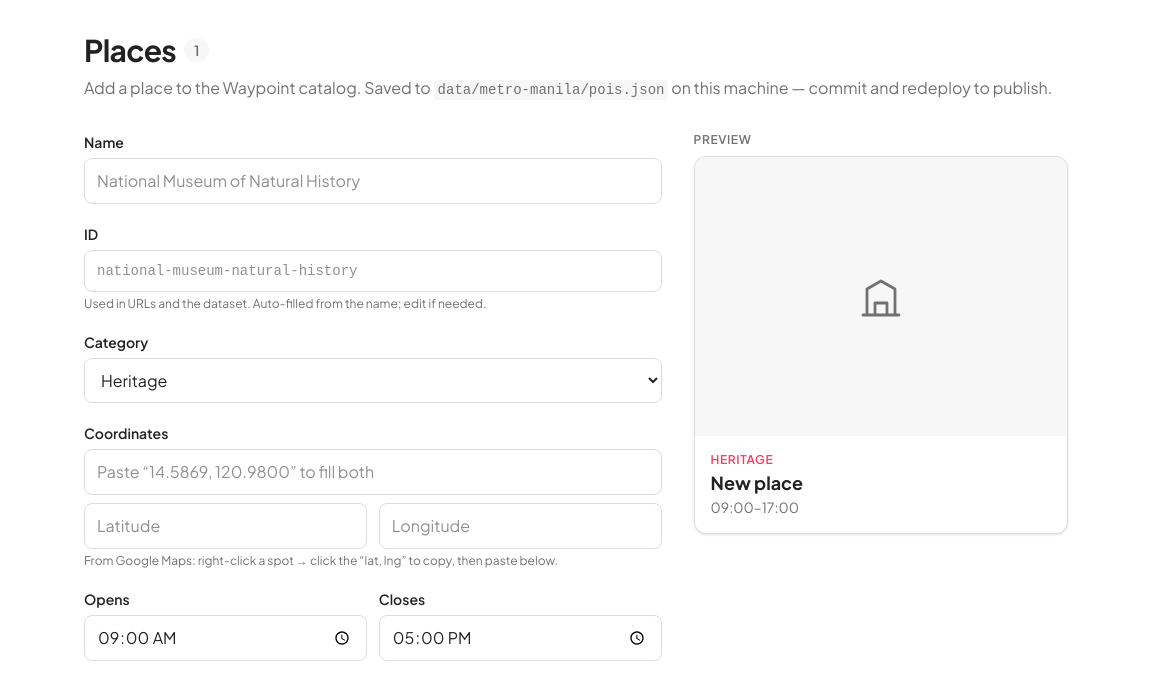
AdminDashboard › shows the server-provided generic error message when the response is not ok and has no field errors
This screenshot has width=1152, height=683.
Type "Rizal Park" into the field labelled "Name" at (373, 181), box [84,158,662,204]
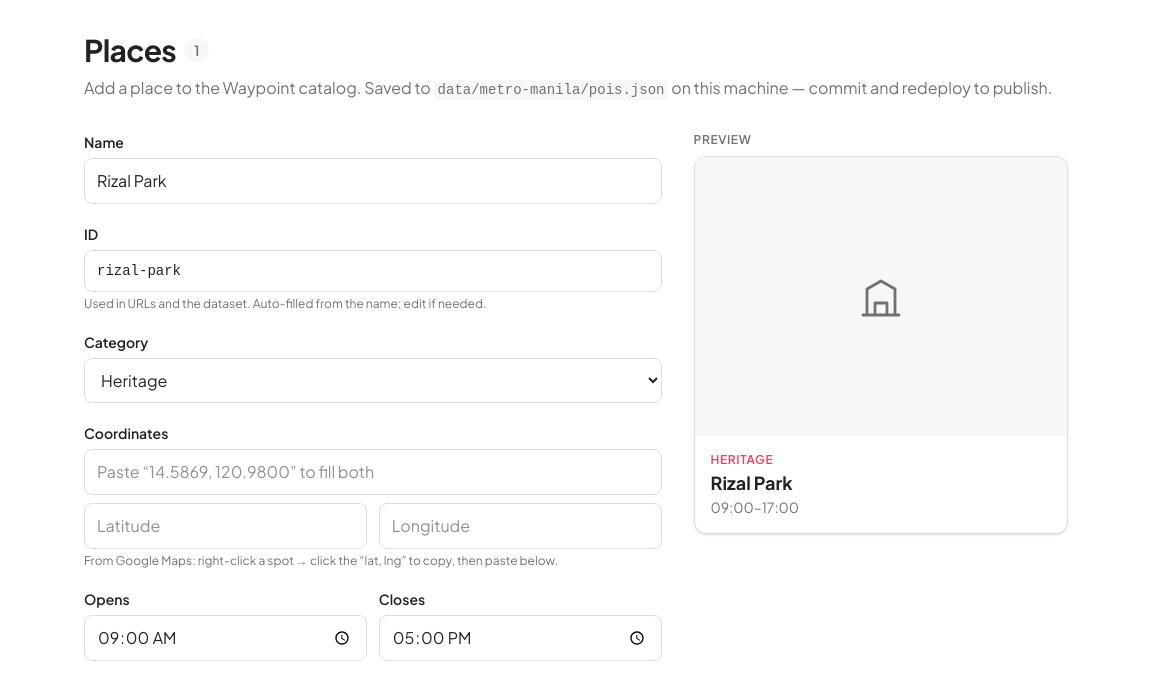
Type "14.5831" into the field labelled "Latitude" at (225, 526), box [84,503,367,549]
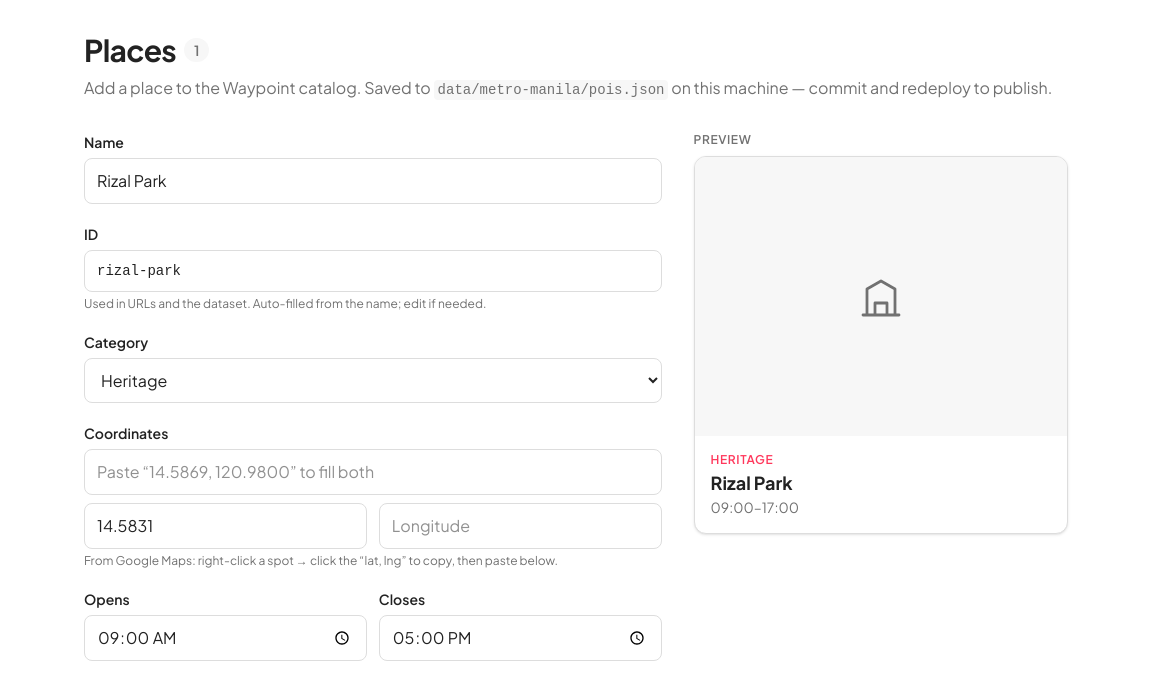
Type "120.9794" into the field labelled "Longitude" at (520, 526), box [379,503,662,549]
(page scrolled)
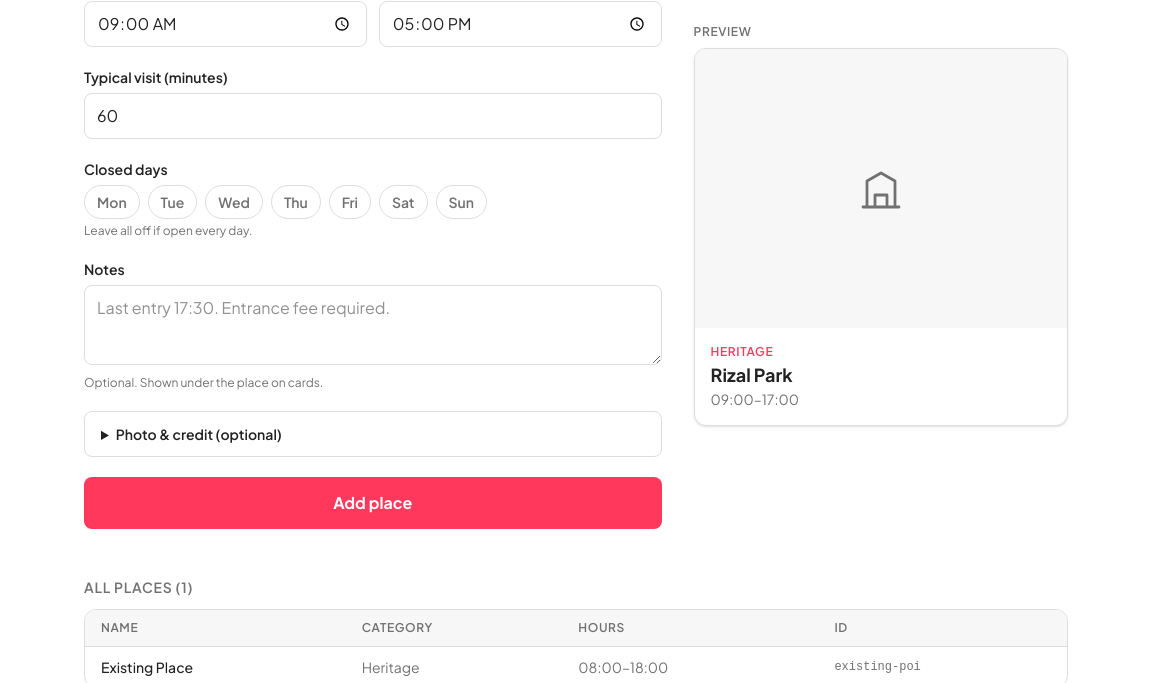
Click the button "Add place" at (373, 503), box [84,477,662,529]
(page scrolled)
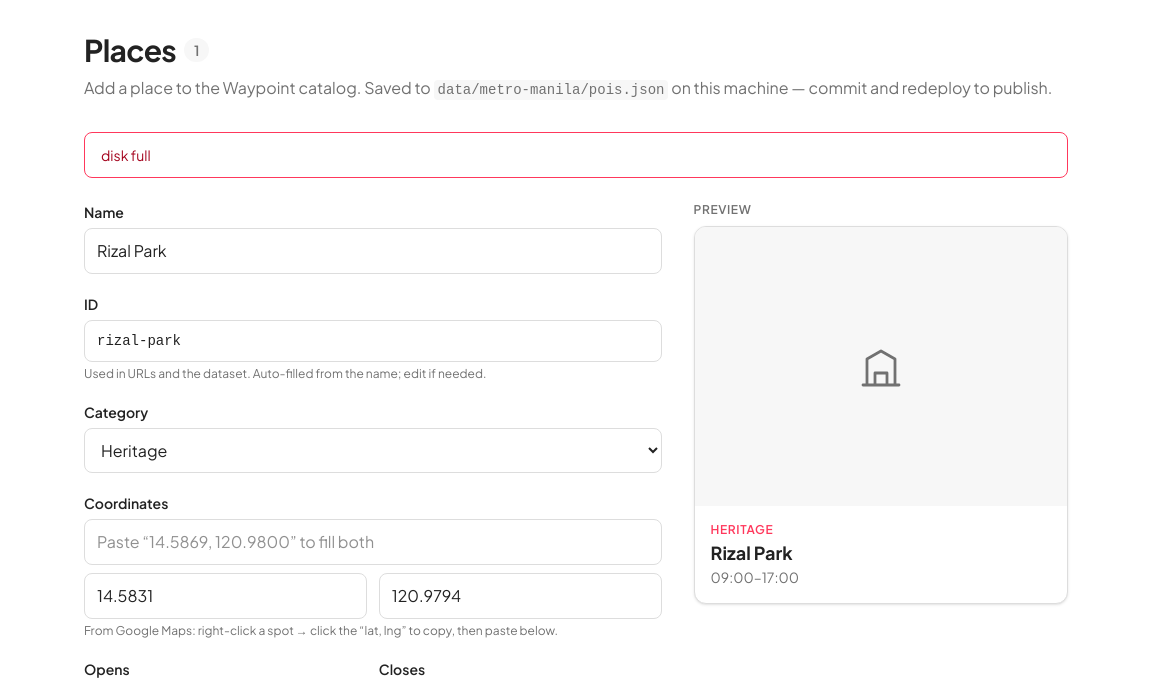
Check: the text "disk full" is shown, box [84,132,1068,178]
